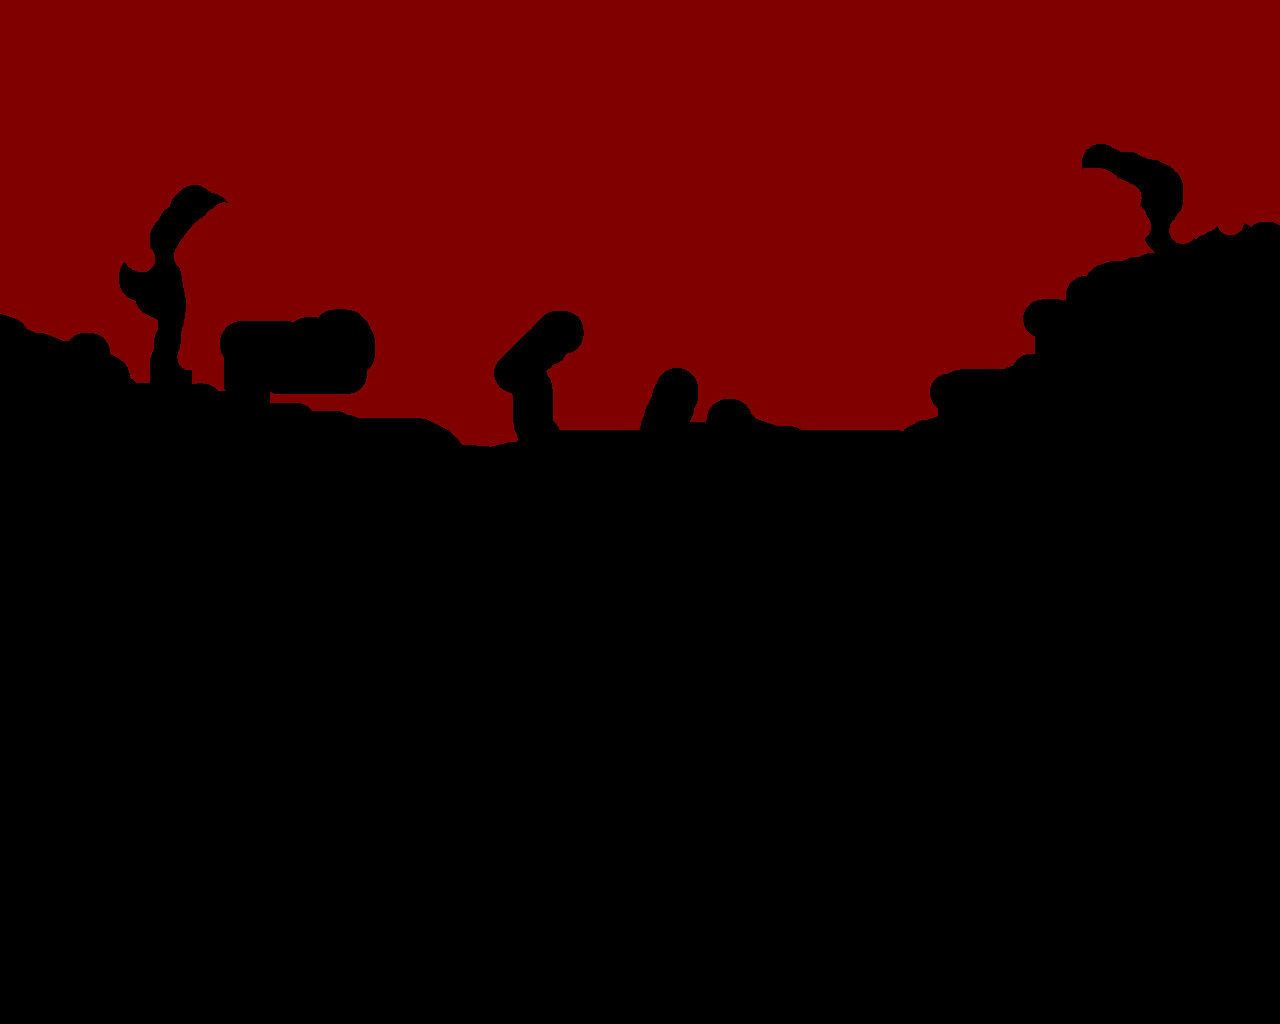Sky: (1, 1, 1279, 447)
